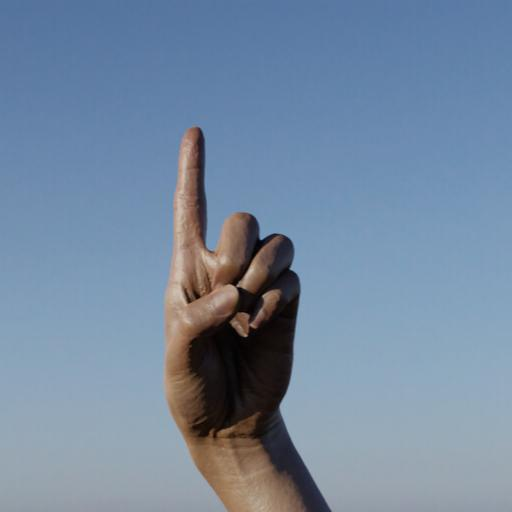D: (160, 122, 305, 432)
